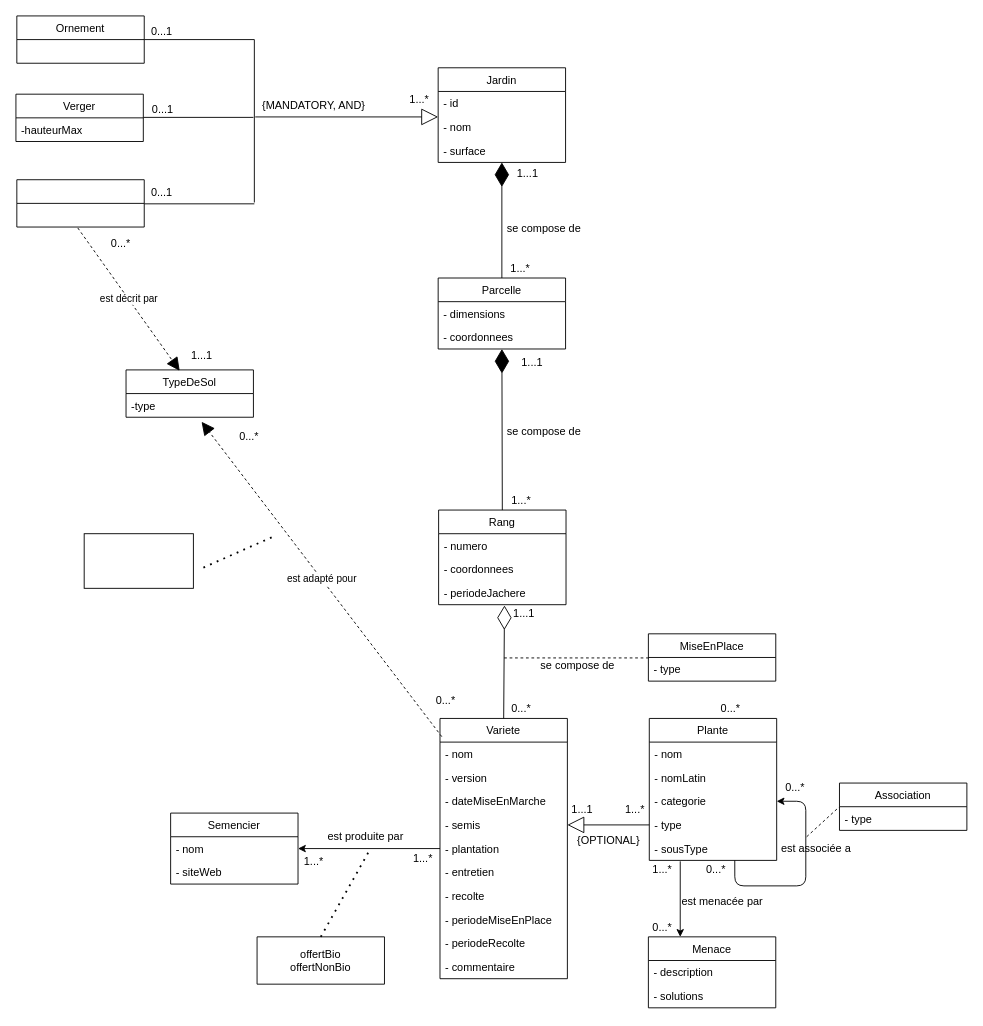
Some shapes in this 983 by 1026 pixel diagram are drawn without their labels. Each missing label, with the centre of its shape:
NiveauAdaptation: point (138, 560)
Potager: point (80, 203)
